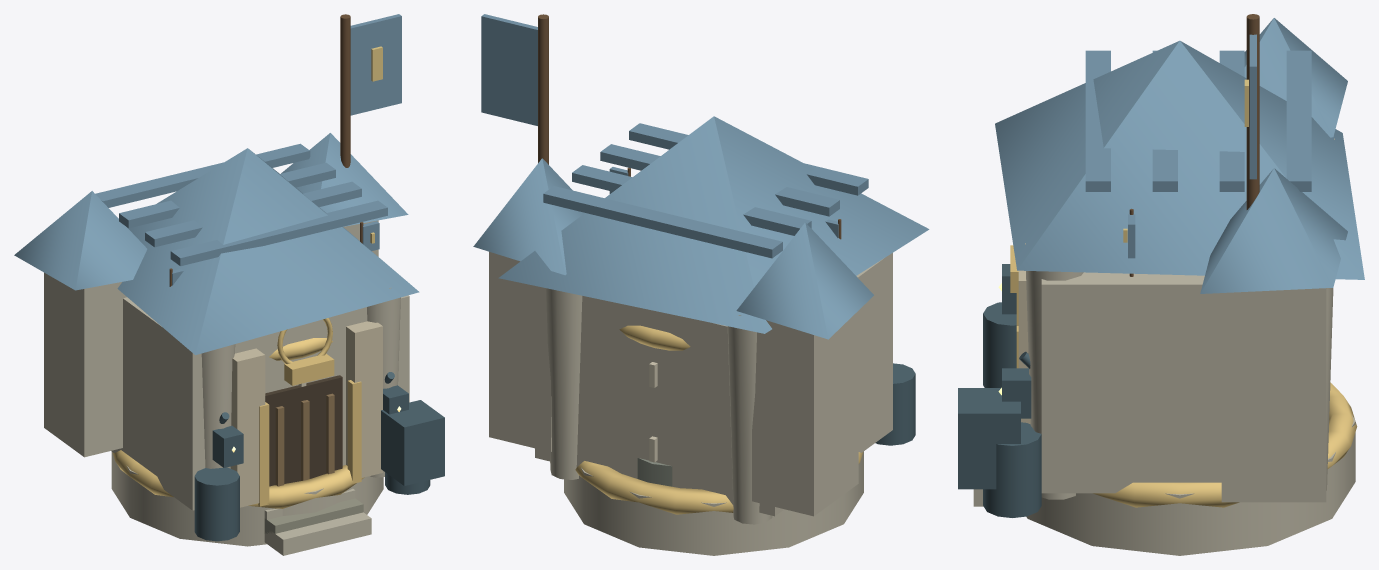
The model's file is tower-barracks-3-base.glb.
3 views of the same model, side by side, from view 1: azimuth 30°, elevation 25°; view 2: azimuth 150°, elevation 25°; view 3: azimuth 270°, elevation 25° (orthographic). The views are drawn at different scales.
Visible parts, largest first — view 1: Foundation, barracks-L3-base; view 2: Foundation, barracks-L3-base; view 3: Foundation, barracks-L3-base.
Boxes of the visible parts, left/top/right/bottom form: Foundation: left=14, top=14, right=444, bottom=555; barracks-L3-base: left=111, top=452, right=383, bottom=546; Foundation: left=473, top=14, right=929, bottom=524; barracks-L3-base: left=564, top=451, right=863, bottom=555; Foundation: left=958, top=14, right=1364, bottom=517; barracks-L3-base: left=1026, top=415, right=1355, bottom=555.
Bounding box in the file's own units: 2.5 × 2.87 × 1.94.
